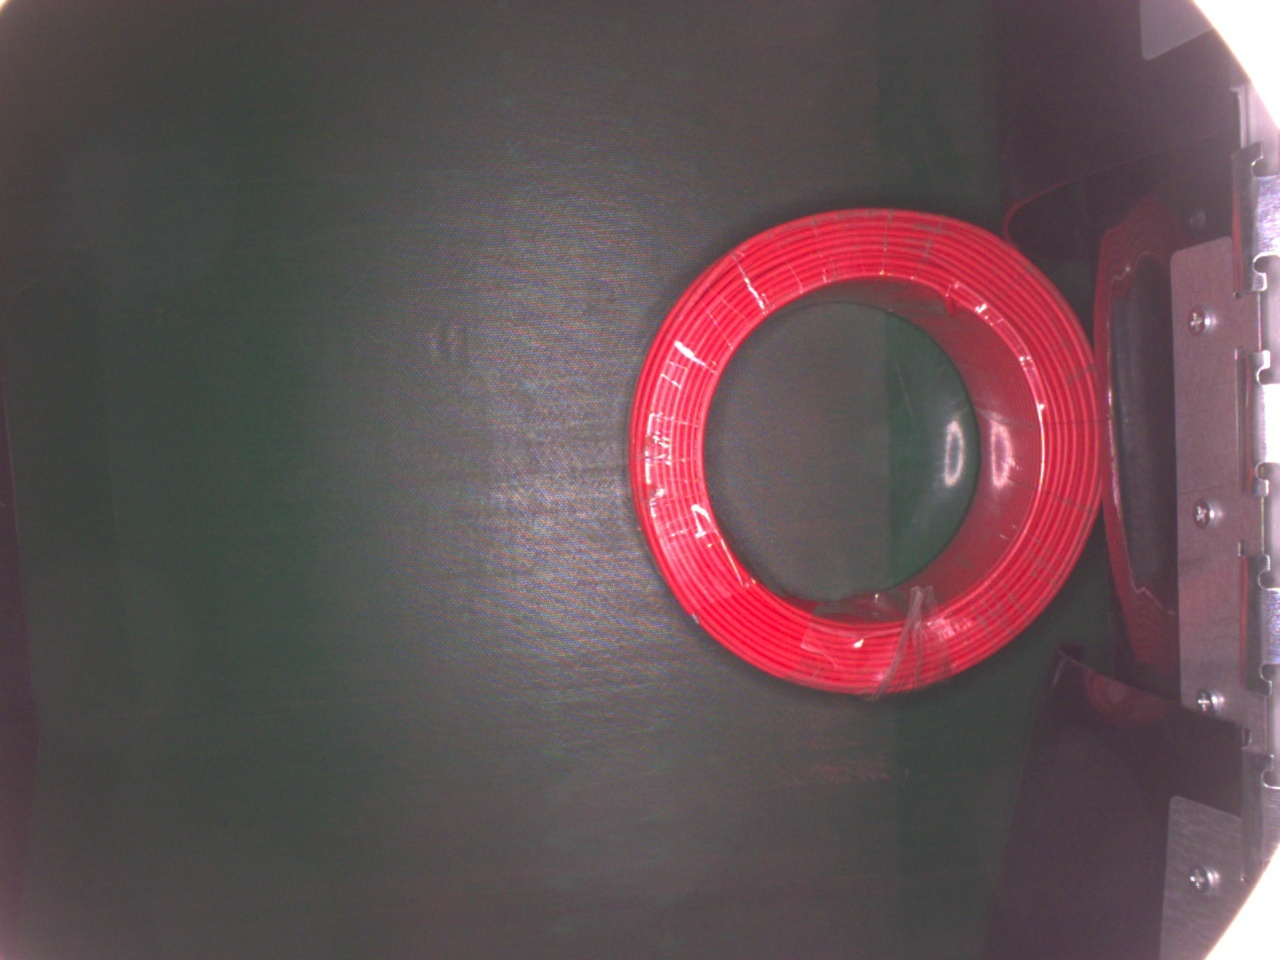red: (623, 203, 1108, 699)
